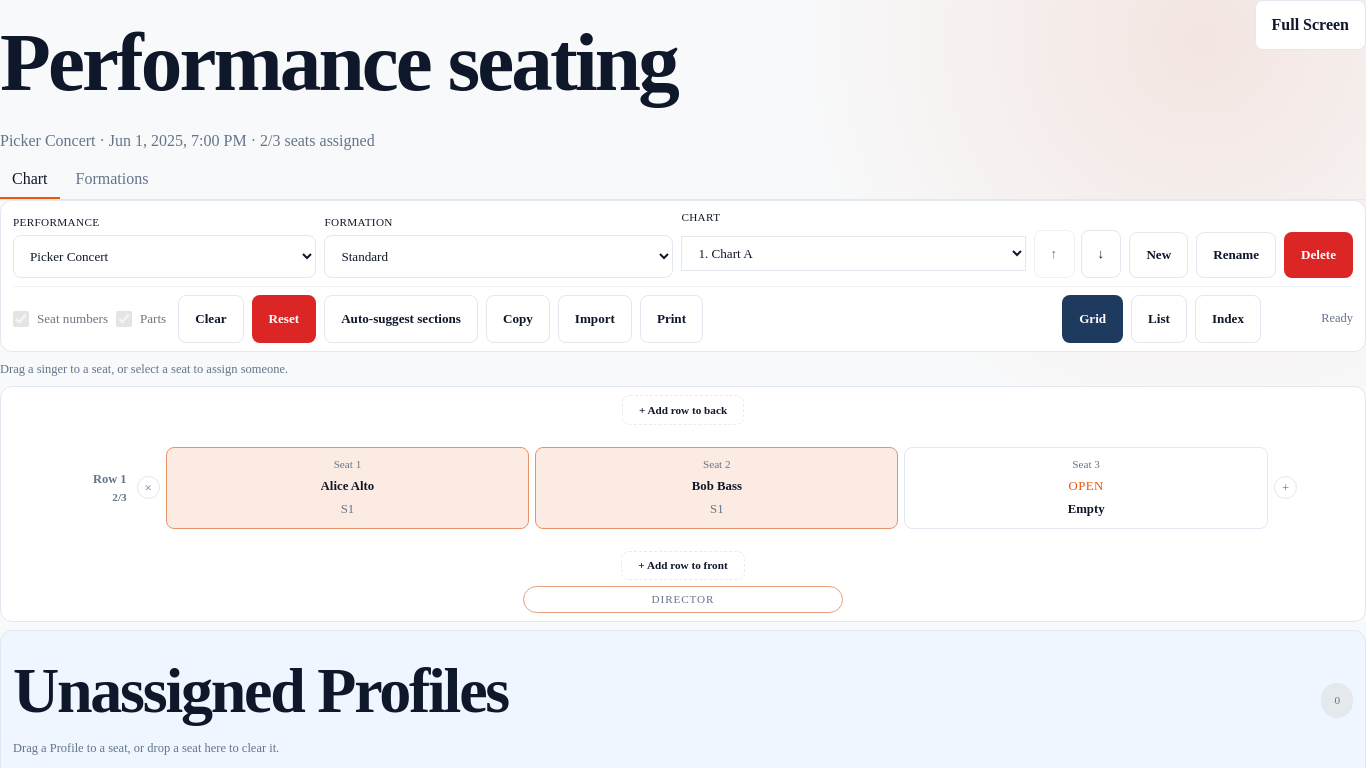
Scenario: Seat assignment candidate picker › explains attending but ineligible in both the tray and seat dialog
Click the button named "Seat 3, empty": click(1086, 488) [904,447,1268,529]
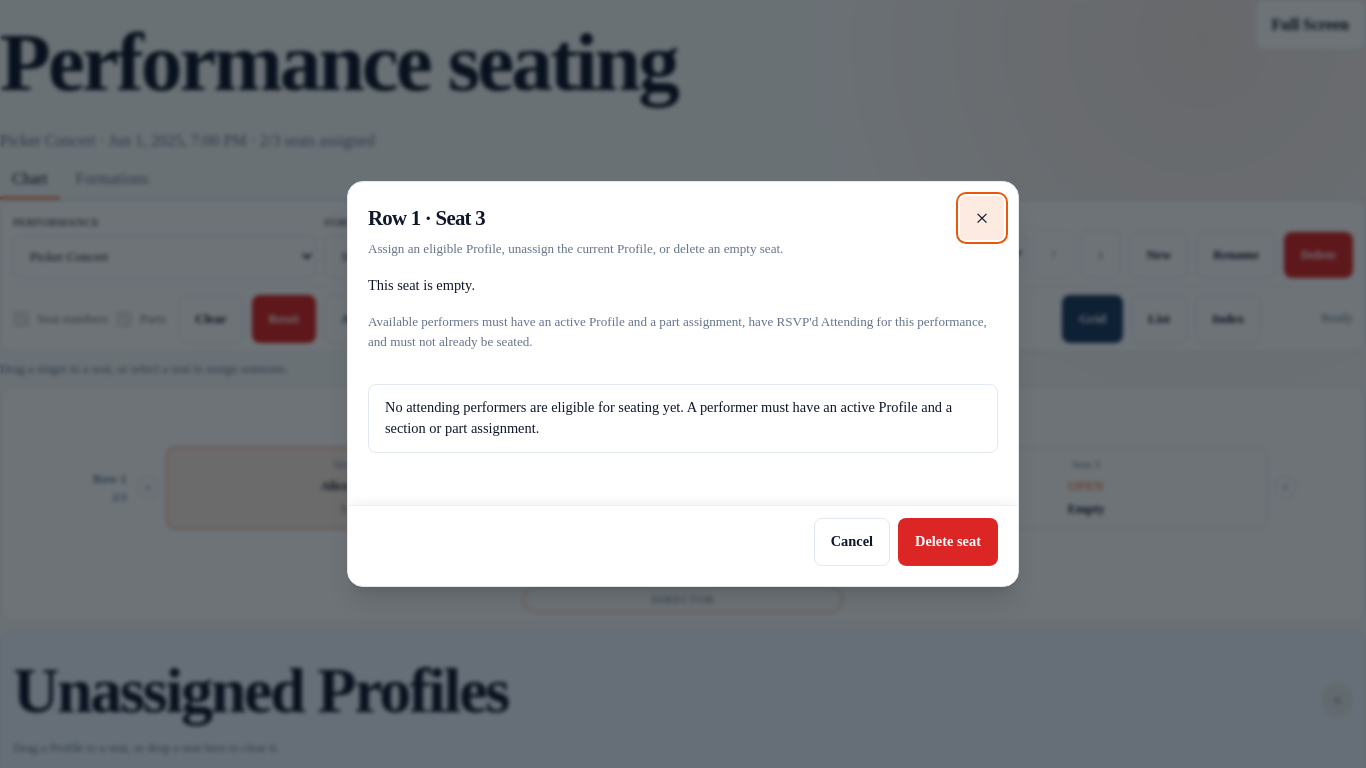
Check: the text "No attending performers are eligible for seating yet. A performer must have an active Profile and a section or part assi" is shown, box [385,399,952,436]
Check: the dialog shows "have RSVP'd Attending", box [368,314,987,349]
Check: the button "Cancel" is enabled, box [814,518,890,566]
